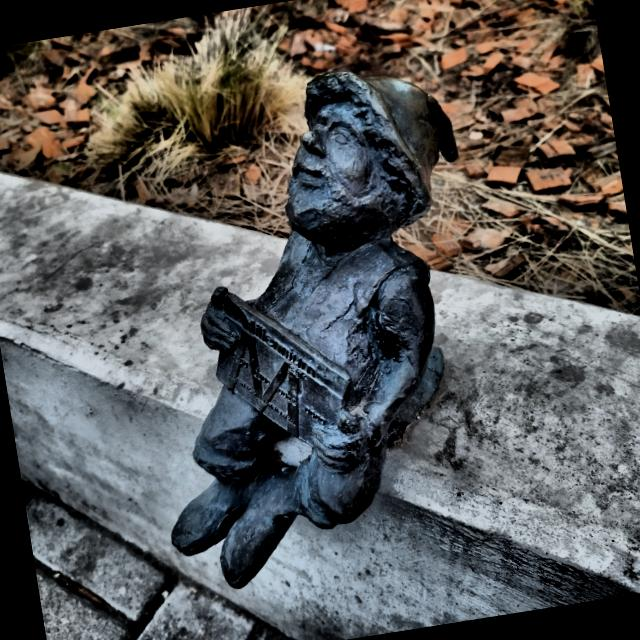Krasnal_Millenniowski: (171, 71, 459, 590)
